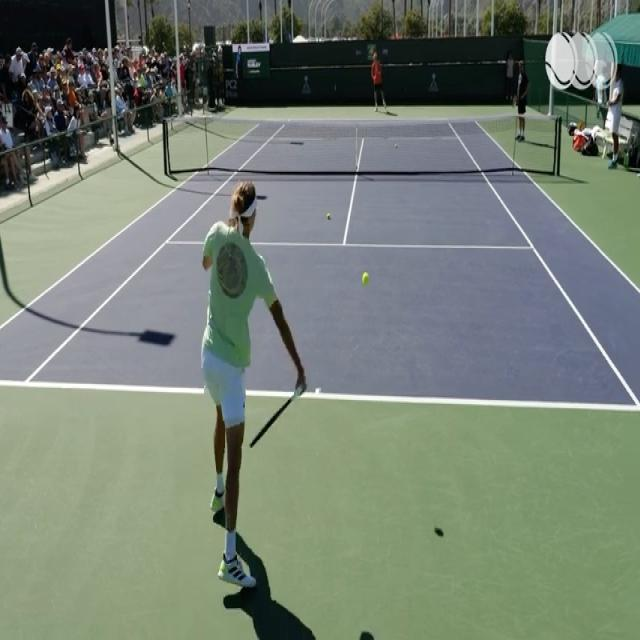forehand-stroke: (196, 190, 307, 604)
